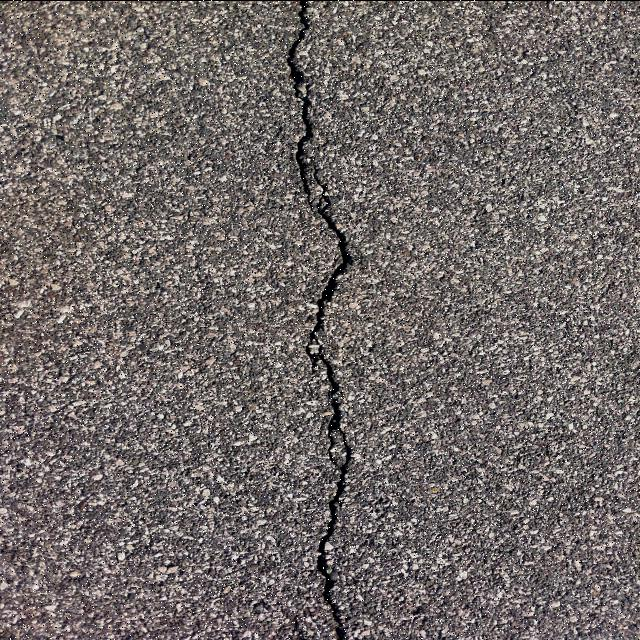Crack: (282, 0, 357, 640)
